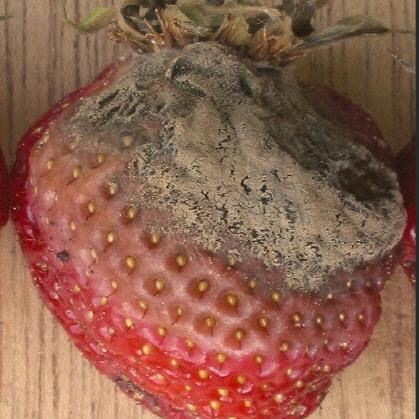Gray Mold: (24, 0, 409, 418)
